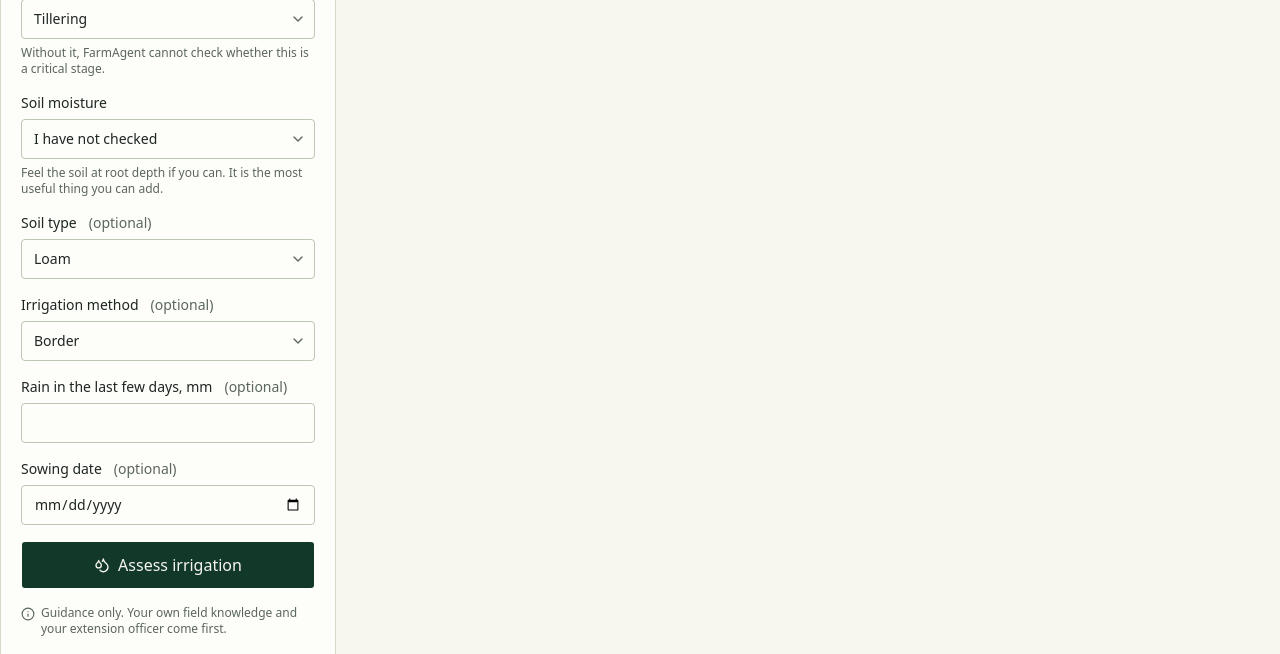
Scenario: IrrigationPage › shows progress, then the assessment and how it was decided
Later steps or results of the test are not shown.
(page scrolled)
Step 1. Click the button "Assess irrigation" → (168,565), box x1=21 y1=541 x2=315 y2=589
(page scrolled)
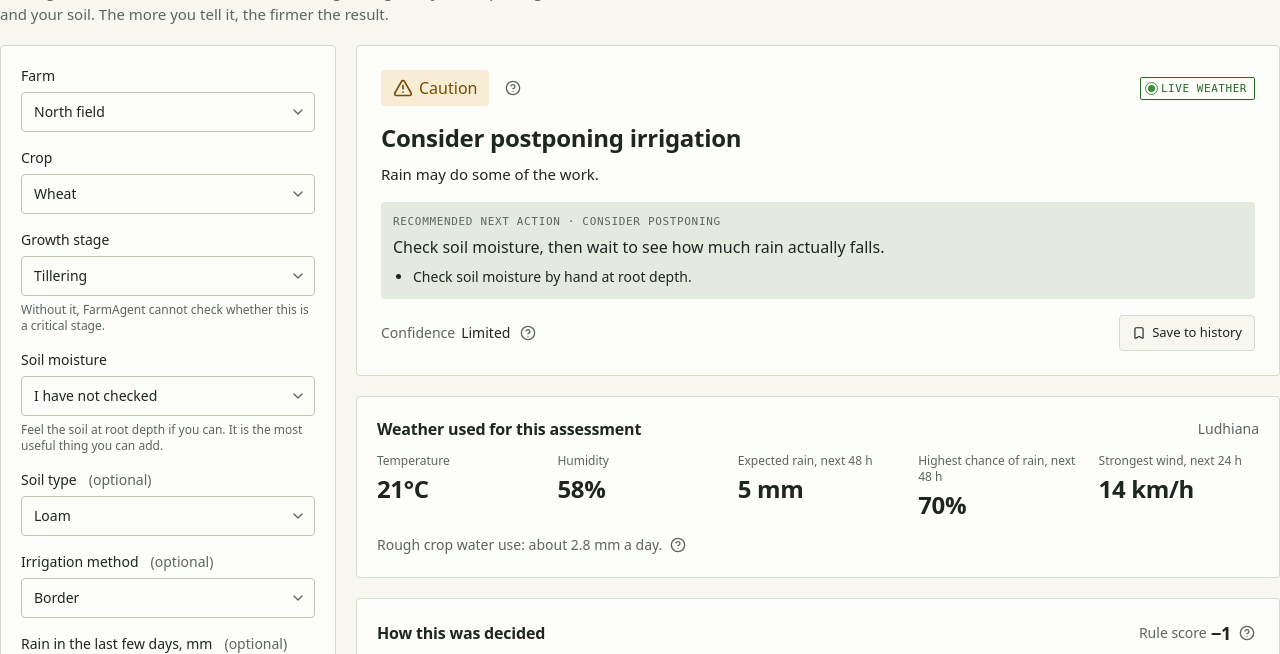
expect the heading "Consider postponing irrigation" is shown: met, box x1=381 y1=121 x2=741 y2=154
expect the text with test id "ledger-score" reads "−1": met, box x1=1211 y1=621 x2=1231 y2=645
expect the text "Live weather" is shown: met, box x1=1140 y1=76 x2=1255 y2=100
